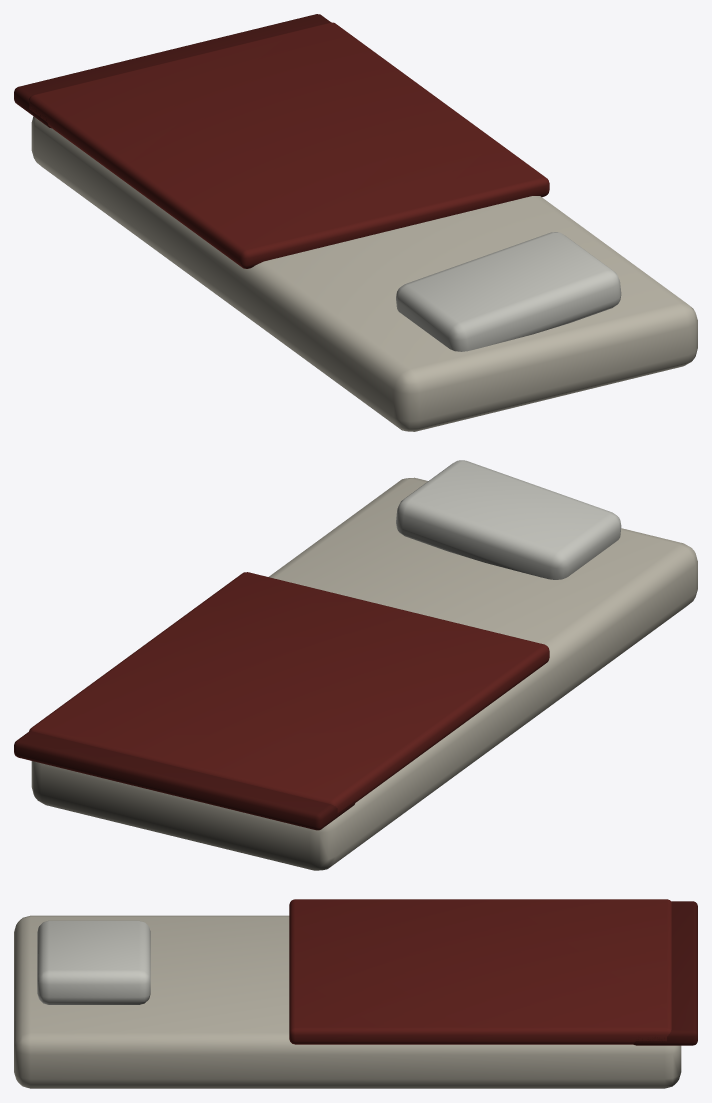
File: bed-mattress.obj
3 views of the same model, one above another, from view 1: azimuth 30°, elevation 25°; view 2: azimuth 150°, elevation 25°; view 3: azimuth 270°, elevation 25° (orthographic). The views are drawn at different scales.
Parts seen in each view (by area): view 1: bed-mattress; view 2: bed-mattress; view 3: bed-mattress.
Boxes of the visible parts, x1,y1,x2,y2 form: bed-mattress: [14, 14, 697, 431]; bed-mattress: [14, 460, 697, 870]; bed-mattress: [14, 899, 697, 1088].
Size of the model in its own units: 0.94 by 0.2982 by 2.05.
